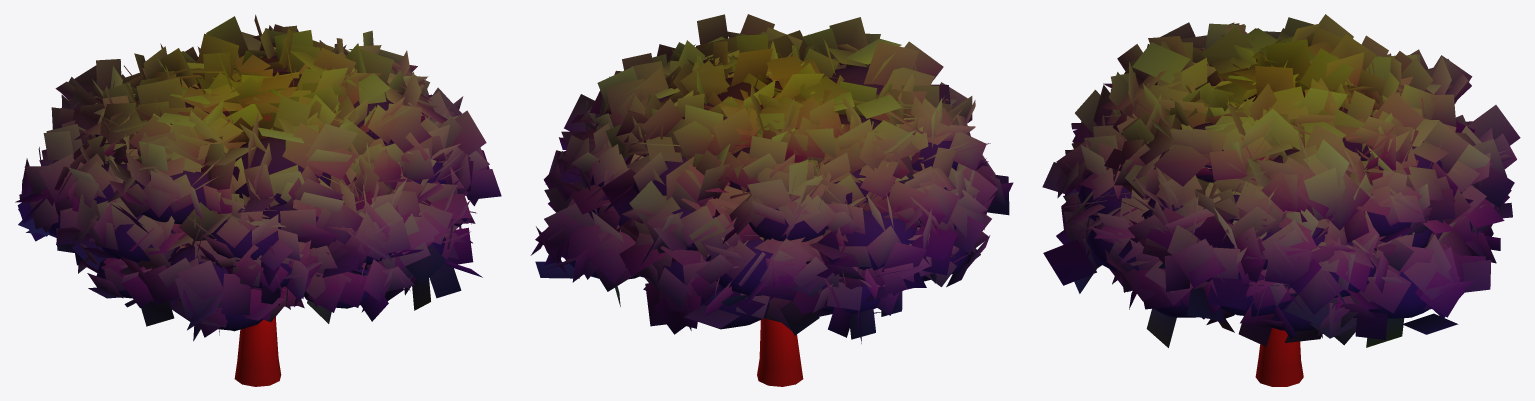
Rendered from Oak_A.fbx.
The picture shows the model from 3 angles, left to right: view 1: azimuth 30°, elevation 25°; view 2: azimuth 150°, elevation 25°; view 3: azimuth 270°, elevation 25°; orthographic projection.
Visible parts, largest first — view 1: Oak_A_LOD0; view 2: Oak_A_LOD0; view 3: Oak_A_LOD0.
Part boxes in pixels (x1=…): Oak_A_LOD0: x1=15, y1=14, x2=501, y2=386; Oak_A_LOD0: x1=530, y1=14, x2=1013, y2=386; Oak_A_LOD0: x1=1042, y1=14, x2=1520, y2=386.
Size of what is drawn, in the model's own units: 12.44 by 9.26 by 12.29.
